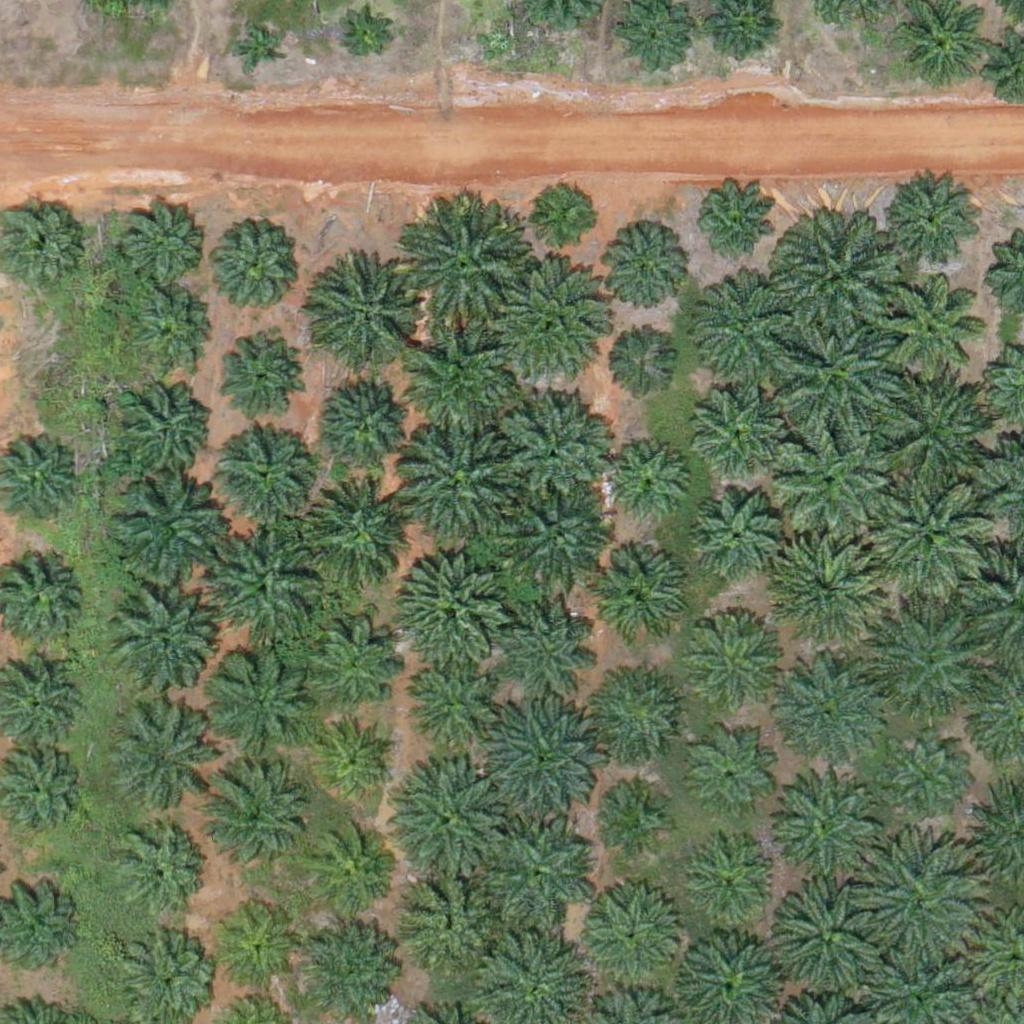Kelapa_Sawit: (851, 835, 976, 961), (873, 474, 998, 600), (772, 214, 897, 340), (402, 209, 527, 335), (776, 308, 901, 433), (766, 536, 879, 650), (770, 881, 883, 995), (502, 264, 615, 378), (298, 477, 411, 591), (876, 607, 989, 720), (777, 421, 890, 534), (770, 770, 883, 883), (691, 269, 804, 382), (578, 884, 691, 997), (484, 699, 597, 812), (405, 327, 518, 440), (396, 428, 509, 541), (393, 548, 506, 661), (291, 608, 404, 721), (401, 766, 513, 880), (203, 642, 315, 756), (200, 758, 312, 872), (109, 474, 221, 588), (878, 374, 990, 487), (768, 659, 880, 772), (483, 817, 595, 930), (502, 479, 614, 592), (497, 392, 609, 505), (208, 533, 320, 646), (885, 283, 985, 384), (883, 172, 983, 273), (500, 586, 600, 687), (320, 370, 420, 471), (204, 214, 304, 315), (104, 706, 204, 807), (589, 548, 689, 648), (404, 869, 504, 969), (315, 268, 415, 368), (217, 424, 317, 524), (108, 593, 208, 693), (113, 377, 213, 477), (599, 226, 687, 315), (303, 929, 391, 1018), (310, 716, 398, 804), (686, 838, 774, 926), (690, 384, 778, 472), (600, 438, 688, 526), (399, 662, 487, 750), (302, 828, 390, 916), (211, 330, 299, 418), (113, 824, 201, 912), (691, 180, 778, 268), (693, 614, 780, 702), (692, 488, 779, 576), (594, 669, 681, 757), (215, 904, 302, 992), (131, 285, 218, 373), (119, 202, 206, 290), (601, 331, 676, 407), (696, 740, 771, 816), (890, 730, 965, 805), (535, 183, 598, 246), (603, 788, 666, 851), (339, 13, 389, 64), (232, 22, 282, 73)
